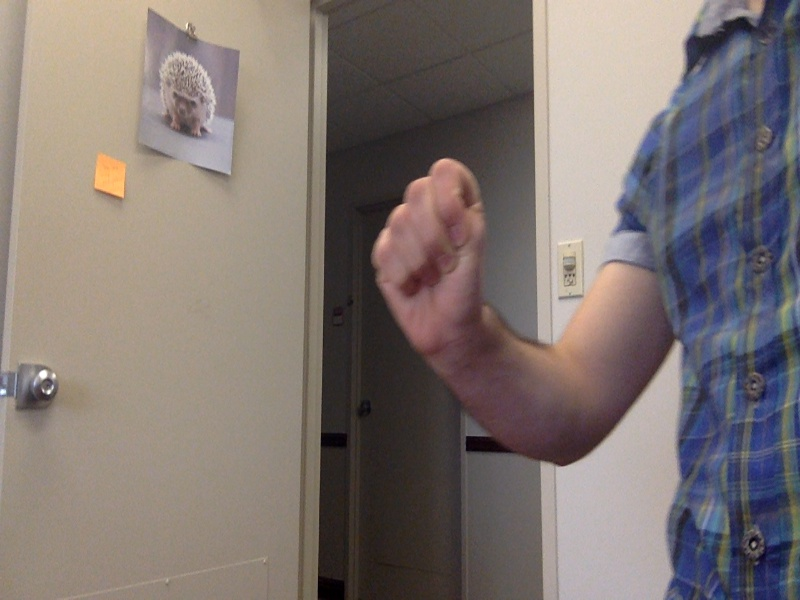0-hand: (366, 158, 495, 361)
